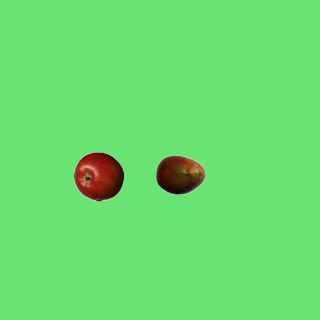Apple Braeburn: (73, 151, 123, 201)
Mango Red: (155, 149, 205, 199)
